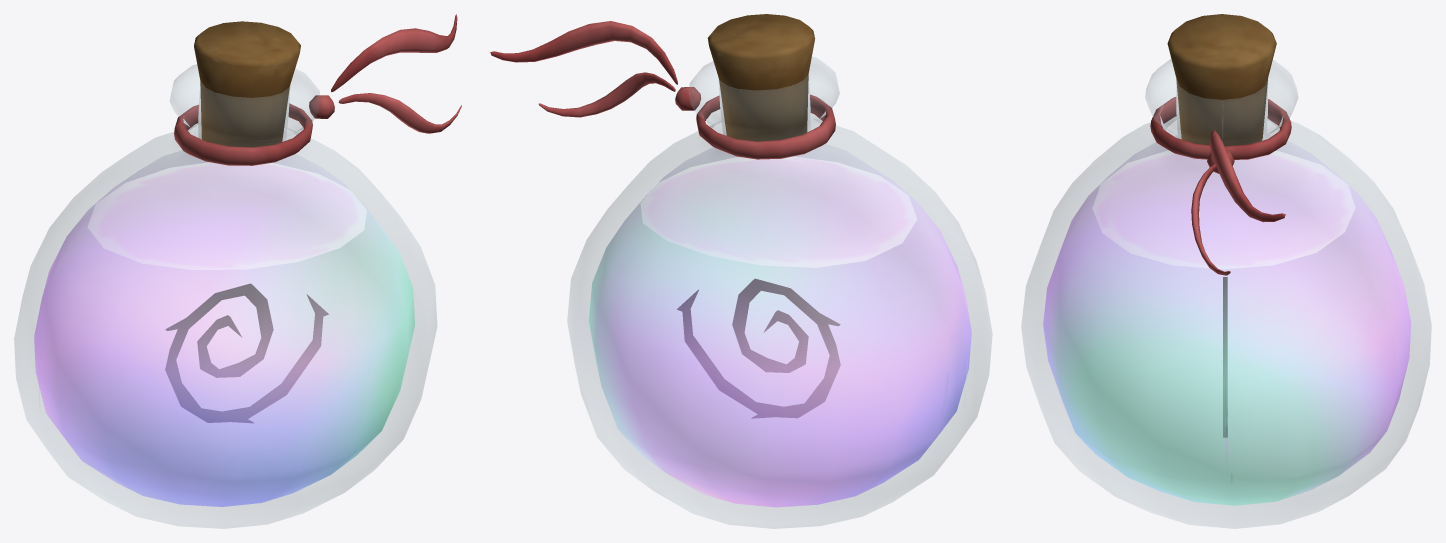
The model's file is shield_potion.glb.
3 views of the same model, side by side, from view 1: azimuth 30°, elevation 25°; view 2: azimuth 150°, elevation 25°; view 3: azimuth 270°, elevation 25° (orthographic). The views are drawn at different scales.
Parts seen in each view (by area): view 1: Object_7; view 2: Object_7; view 3: Object_7.
Boxes of the visible parts, x1=… form: Object_7: x1=14, y1=14, x2=461, y2=528; Object_7: x1=490, y1=14, x2=992, y2=528; Object_7: x1=1021, y1=14, x2=1431, y2=528.
Bounding box in the file's own units: 2.42 × 2.39 × 1.87.
1 material, 1 textured.
